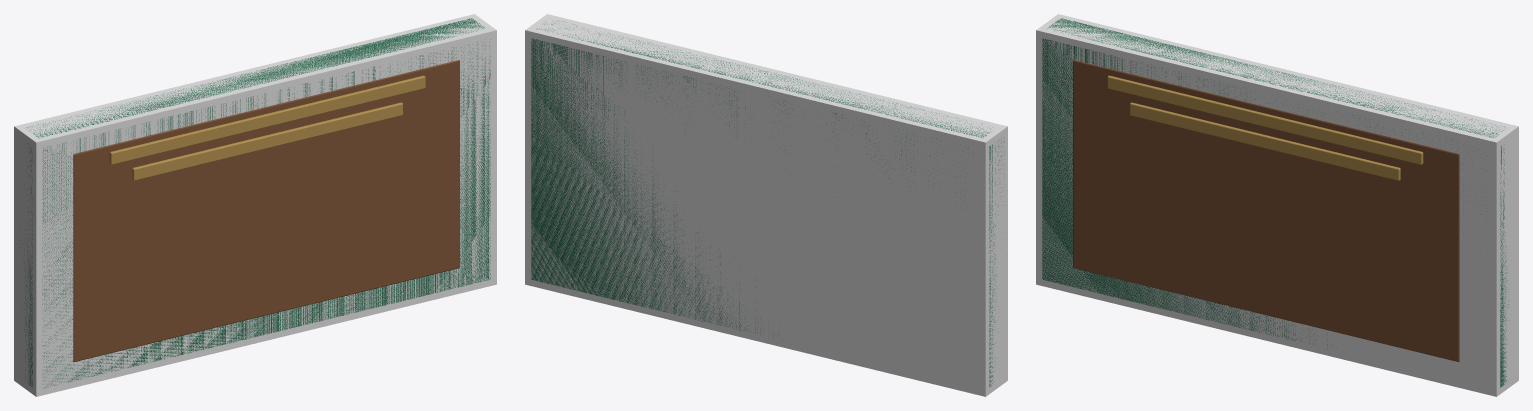
Rendered from signage_luxury.glb.
The picture shows the model from 3 angles, left to right: view 1: azimuth 30°, elevation 25°; view 2: azimuth 150°, elevation 25°; view 3: azimuth 330°, elevation 25°; orthographic projection.
Parts seen in each view (by area): view 1: MESH_Inset, COL_signage, MESH_Frame, MESH_TierTrim_01, MESH_TierTrim_02; view 2: COL_signage, MESH_Frame; view 3: MESH_Inset, COL_signage, MESH_Frame, MESH_TierTrim_01, MESH_TierTrim_02.
Part boxes in pixels (x1,y1,x2,y2): MESH_Inset: [73, 60, 459, 361]; COL_signage: [14, 14, 496, 396]; MESH_Frame: [18, 18, 490, 388]; MESH_TierTrim_01: [109, 75, 425, 164]; MESH_TierTrim_02: [132, 102, 402, 180]; COL_signage: [525, 14, 1007, 396]; MESH_Frame: [531, 20, 1004, 386]; MESH_Inset: [1073, 60, 1459, 361]; COL_signage: [1036, 14, 1518, 396]; MESH_Frame: [1042, 18, 1509, 387]; MESH_TierTrim_01: [1107, 75, 1423, 164]; MESH_TierTrim_02: [1130, 102, 1400, 180].
Size of the model in its own units: 0.72 by 0.38 by 0.0656.
